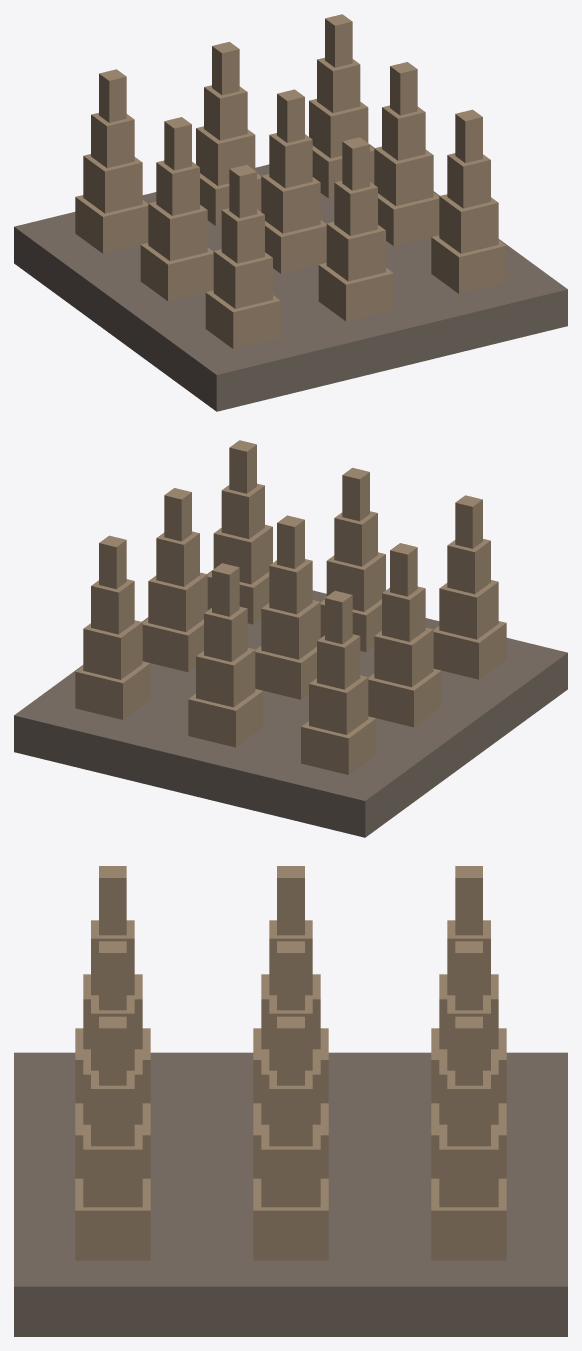
File: spike_trap.glb
3 renders of one model, top to bottom at view 1: azimuth 30°, elevation 25°; view 2: azimuth 150°, elevation 25°; view 3: azimuth 270°, elevation 25°, orthographic. The views are drawn at different scales.
Visible parts, largest first — view 1: body; view 2: body; view 3: body.
Boxes of the visible parts, x1,y1,x2,y2 form: body: [14, 14, 567, 411]; body: [14, 440, 567, 837]; body: [14, 866, 567, 1336].
Bounding box in the file's own units: 1.4 × 0.76 × 1.4.
